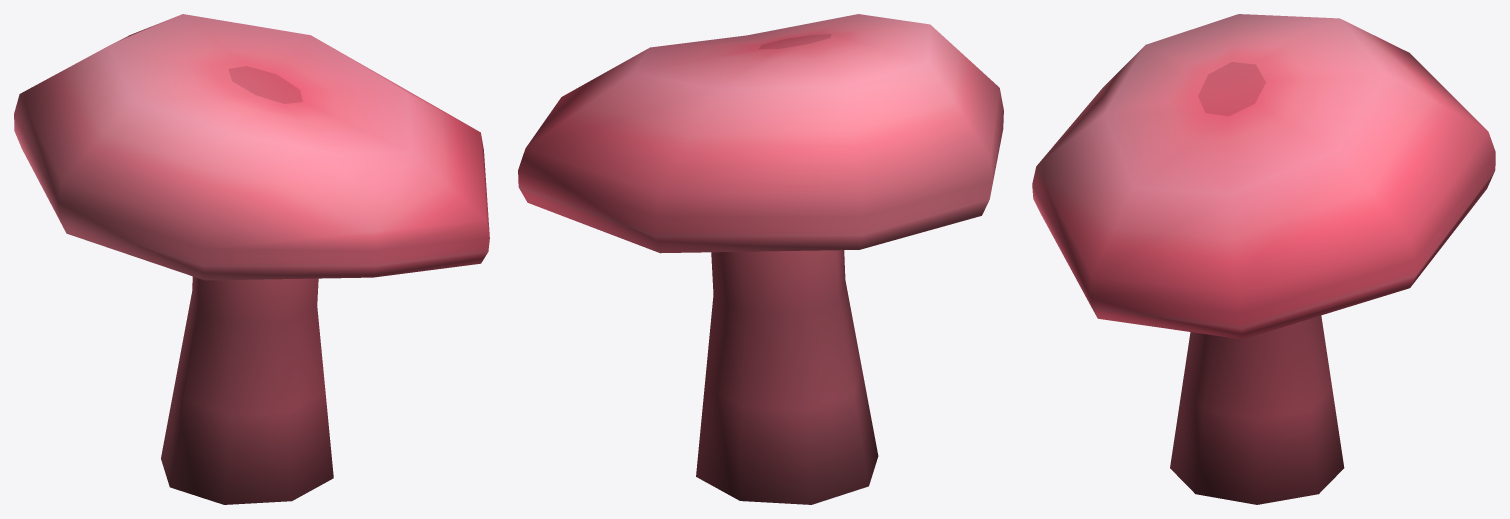
The model's file is Mushroom 2.fbx.
3 renders of one model, left to right at view 1: azimuth 30°, elevation 25°; view 2: azimuth 150°, elevation 25°; view 3: azimuth 270°, elevation 25°, orthographic. The views are drawn at different scales.
Parts seen in each view (by area): view 1: Cylinder.001; view 2: Cylinder.001; view 3: Cylinder.001.
Part boxes in pixels (x1,y1,x2,y2): Cylinder.001: (14,14,489,504); Cylinder.001: (518,14,1003,504); Cylinder.001: (1032,14,1495,504).
Size of the model in its own units: 26.61 by 25.16 by 26.16.
